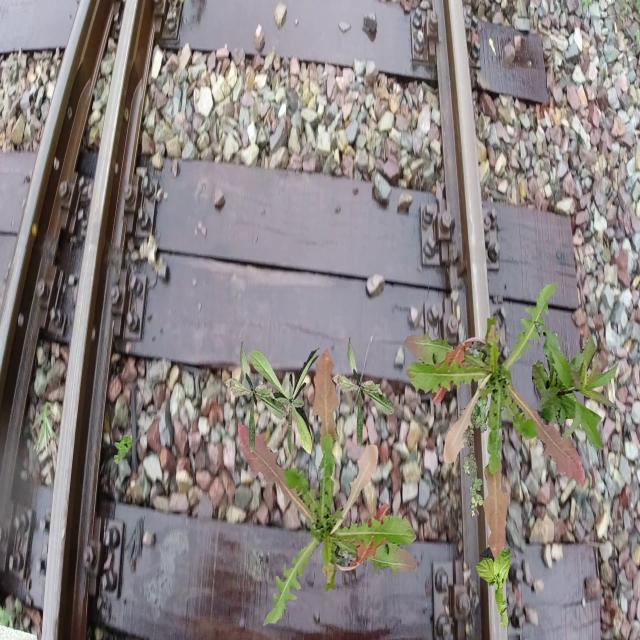Plant: (238, 348, 418, 626), (404, 282, 584, 560), (532, 321, 620, 451), (250, 348, 322, 456), (224, 341, 288, 453), (332, 337, 396, 449), (460, 380, 508, 518), (476, 546, 512, 630), (31, 401, 58, 458), (114, 432, 134, 464)
